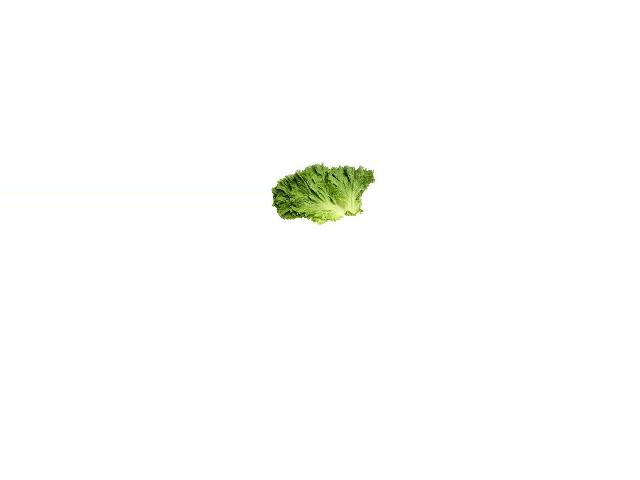lettuce: (271, 156, 374, 228)
